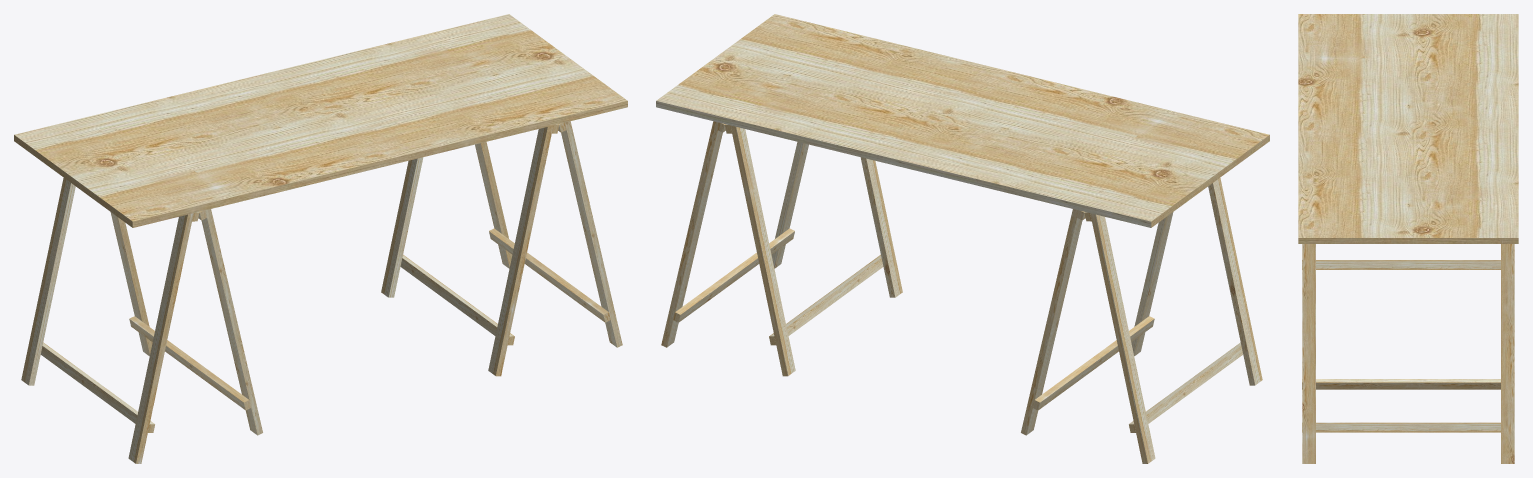
File: sh_scopia_table_on_trestles.glb
3 renders of one model, left to right at view 1: azimuth 30°, elevation 25°; view 2: azimuth 150°, elevation 25°; view 3: azimuth 270°, elevation 25°, orthographic. The views are drawn at different scales.
Bounding box in the file's own units: 1.6 × 0.761 × 0.664.
3 materials, 3 textured.
